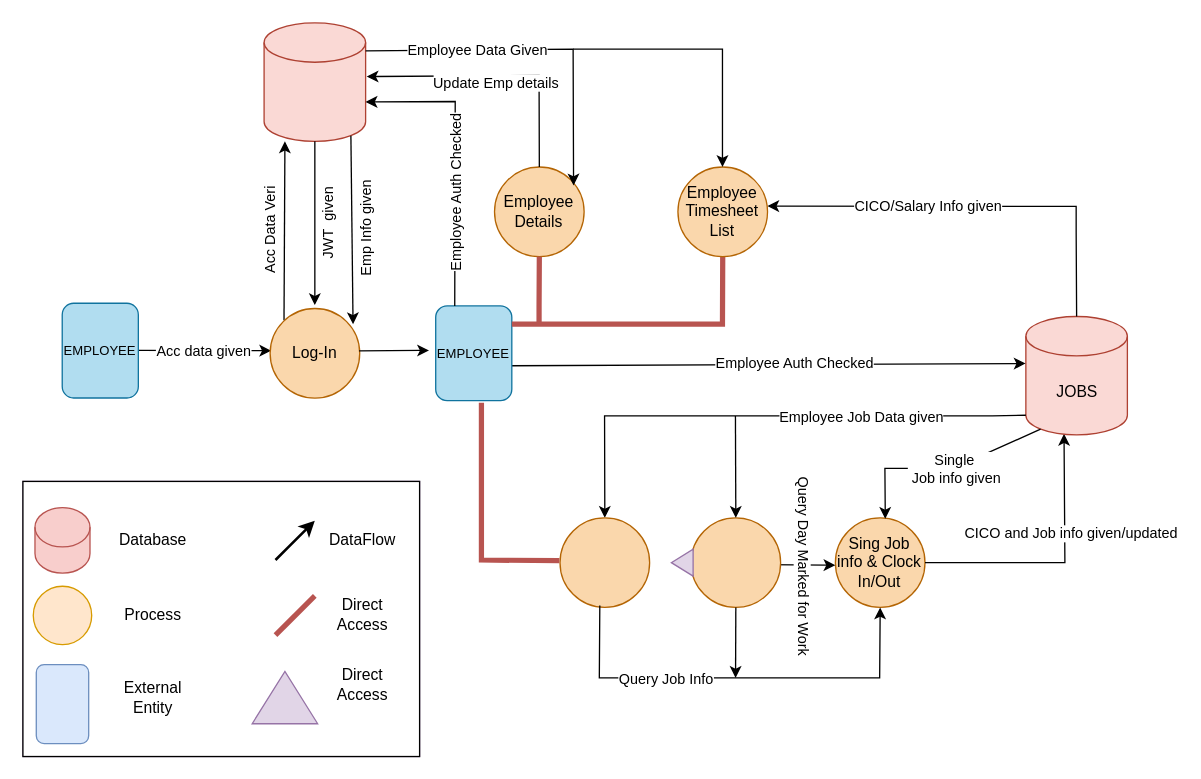
The diagram is 1201 pixels wide and 779 high, and some of its shapes have lost their labels. The centre of each missing label's shape, as x and y in pixels:
"Employee Jobs All List" belongs at pixel 604 562.
"Employee Jobs Calendar" belongs at pixel 735 562.
"USERS" belongs at pixel 314 81.
